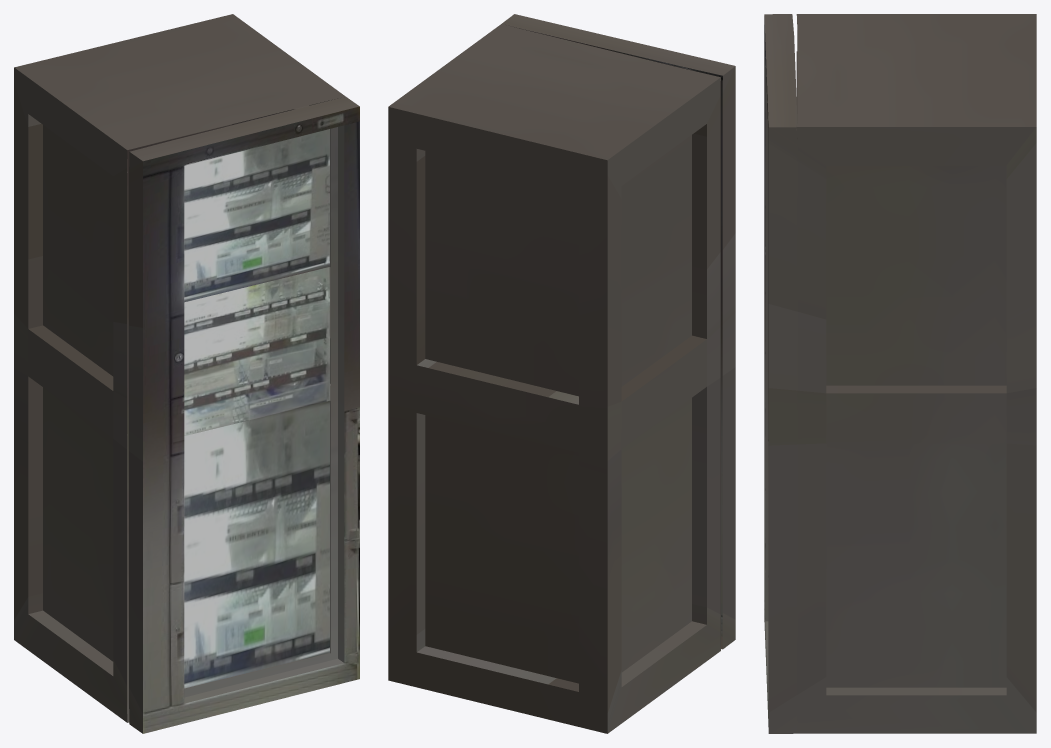
File: refrigerator3.fbx
3 views of the same model, side by side, from view 1: azimuth 30°, elevation 25°; view 2: azimuth 150°, elevation 25°; view 3: azimuth 270°, elevation 25° (orthographic). The views are drawn at different scales.
Visible parts, largest first — view 1: main_fridge_compartment, door, inner_door; view 2: main_fridge_compartment, door, inner_door; view 3: main_fridge_compartment, door.
Boxes of the visible parts, bbox=[...] form: main_fridge_compartment: bbox=[14, 14, 345, 722]; door: bbox=[129, 97, 359, 733]; inner_door: bbox=[127, 112, 337, 722]; main_fridge_compartment: bbox=[388, 24, 720, 733]; door: bbox=[502, 14, 735, 649]; inner_door: bbox=[514, 27, 720, 646]; main_fridge_compartment: bbox=[796, 14, 1036, 733]; door: bbox=[764, 14, 797, 733].
Bounding box in the file's own units: 1.2 × 3 × 1.22.
2 materials, 1 textured.
